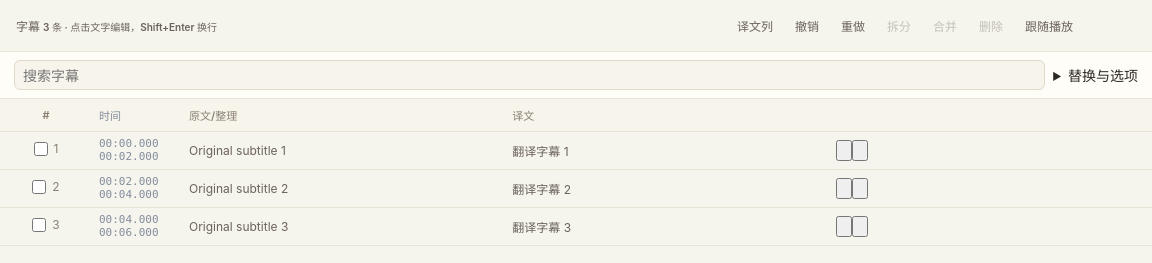
Scenario: deleting selected subtitles › deletes a single selected row immediately and clears the selection
The image size is (1152, 263).
Expected: the button "删除" is disabled, x1=972 y1=13 x2=1010 y2=38
Step 1. Click the checkbox named "选择第 2 条字幕" → (39, 187), box x1=32 y1=180 x2=46 y2=194
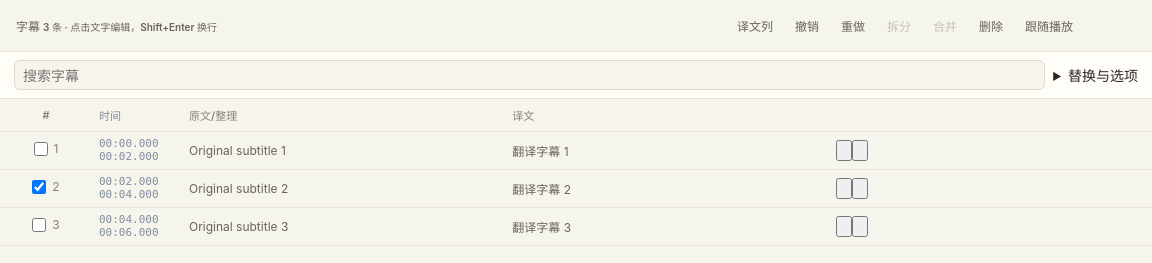
Expected: the button "删除" is enabled
Step 2. Click the button "删除" → (991, 26), box x1=972 y1=13 x2=1010 y2=38
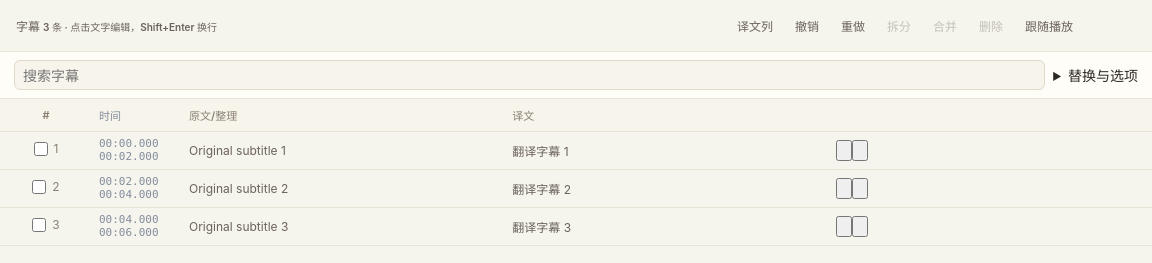
Expected: the button "删除" is disabled, x1=972 y1=13 x2=1010 y2=38
